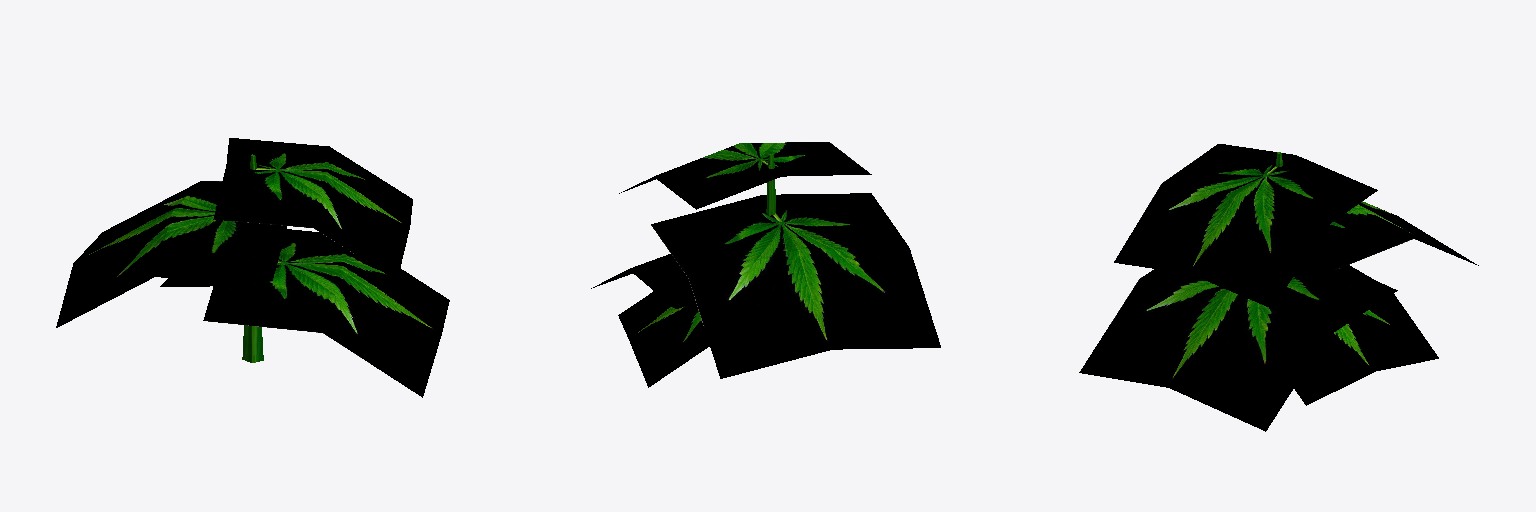
The picture shows the model from 3 angles: view 1: azimuth 30°, elevation 25°; view 2: azimuth 150°, elevation 25°; view 3: azimuth 270°, elevation 25°; orthographic projection.
Visible parts, largest first — view 1: Plane.003_Plane.018; view 2: Plane.003_Plane.018; view 3: Plane.003_Plane.018.
Part boxes in pixels (x1,y1,x2,y2): Plane.003_Plane.018: (56, 138, 449, 397); Plane.003_Plane.018: (591, 142, 940, 387); Plane.003_Plane.018: (1079, 144, 1478, 431).
Bounding box in the file's own units: 0.3022 × 0.1572 × 0.2815.
1 materials, 1 textured.